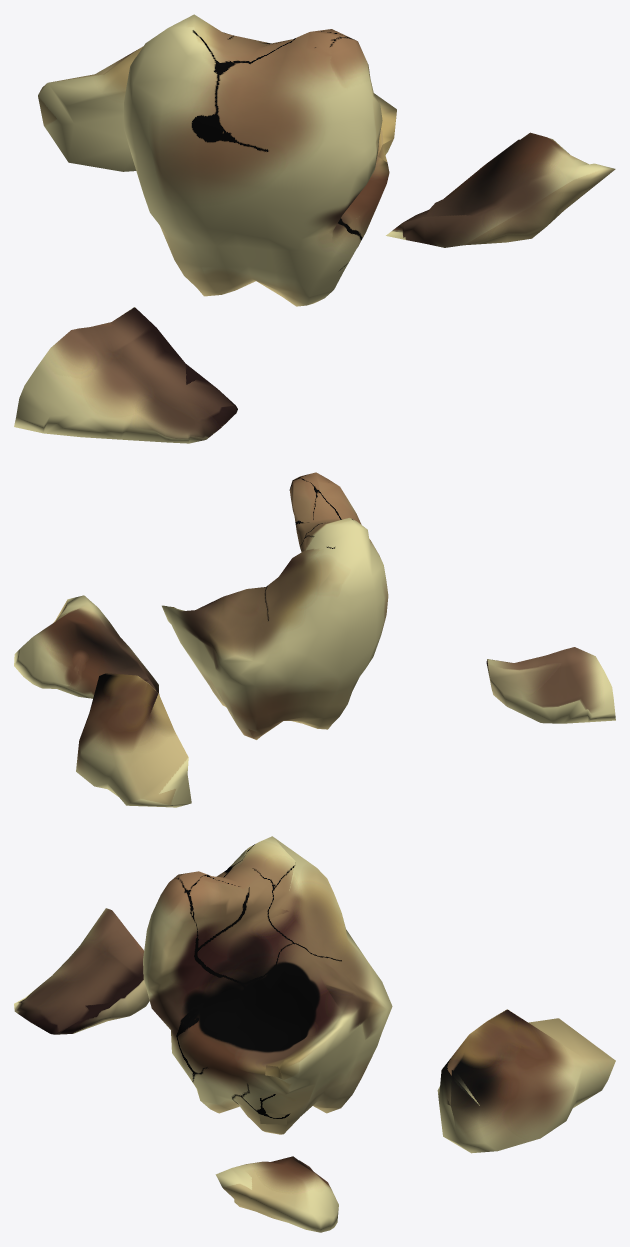
The model's file is Painted_BrokrenTooth.fbx.
3 renders of one model, top to bottom at view 1: azimuth 30°, elevation 25°; view 2: azimuth 150°, elevation 25°; view 3: azimuth 270°, elevation 25°, orthographic. The views are drawn at different scales.
Parts seen in each view (by area): view 1: MainCrack; view 2: MainCrack; view 3: MainCrack.
Part boxes in pixels (x1,y1,x2,y2): MainCrack: [14, 14, 615, 443]; MainCrack: [14, 472, 615, 807]; MainCrack: [14, 836, 615, 1232].
Bounding box in the file's own units: 1403 × 568 × 1290.
